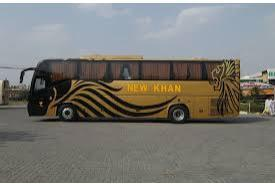bus: (24, 51, 239, 124)
